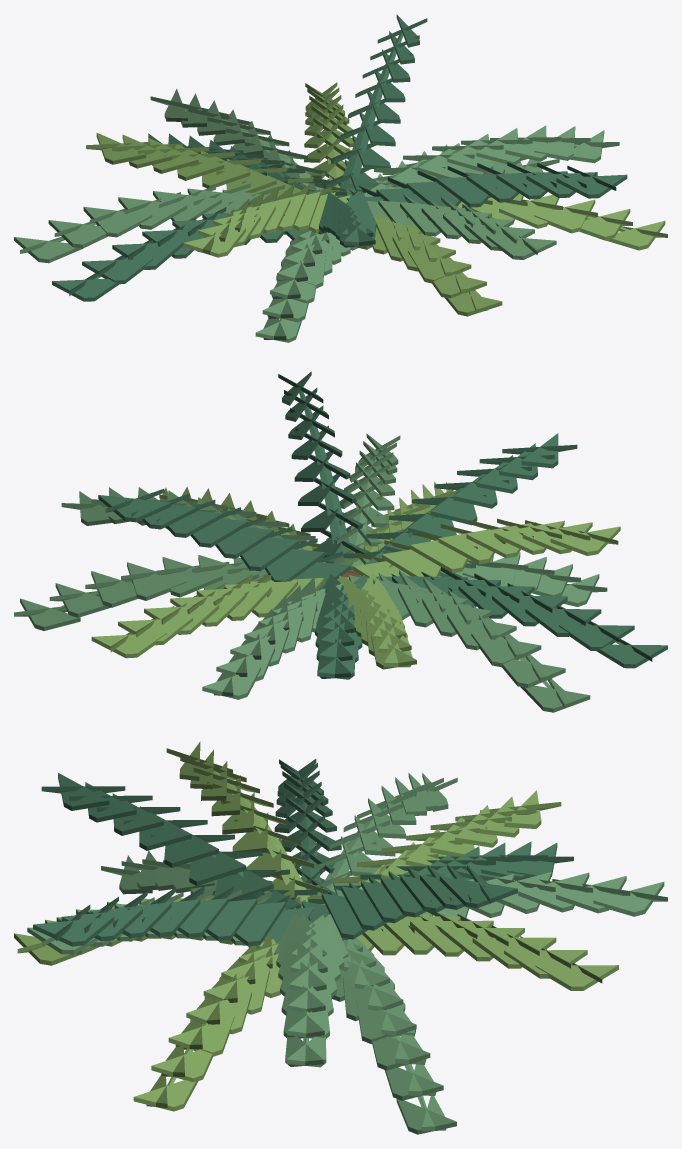
The model's file is PLANT_05.obj.
3 renders of one model, top to bottom at view 1: azimuth 30°, elevation 25°; view 2: azimuth 150°, elevation 25°; view 3: azimuth 270°, elevation 25°, orthographic. The views are drawn at different scales.
Parts seen in each view (by area): view 1: fronds; view 2: fronds; view 3: fronds.
Part boxes in pixels (x1,y1,x2,y2): fronds: [14, 14, 667, 342]; fronds: [14, 371, 667, 712]; fronds: [14, 741, 667, 1134].
Bounding box in the file's own units: 3.04 × 0.8345 × 2.66.
